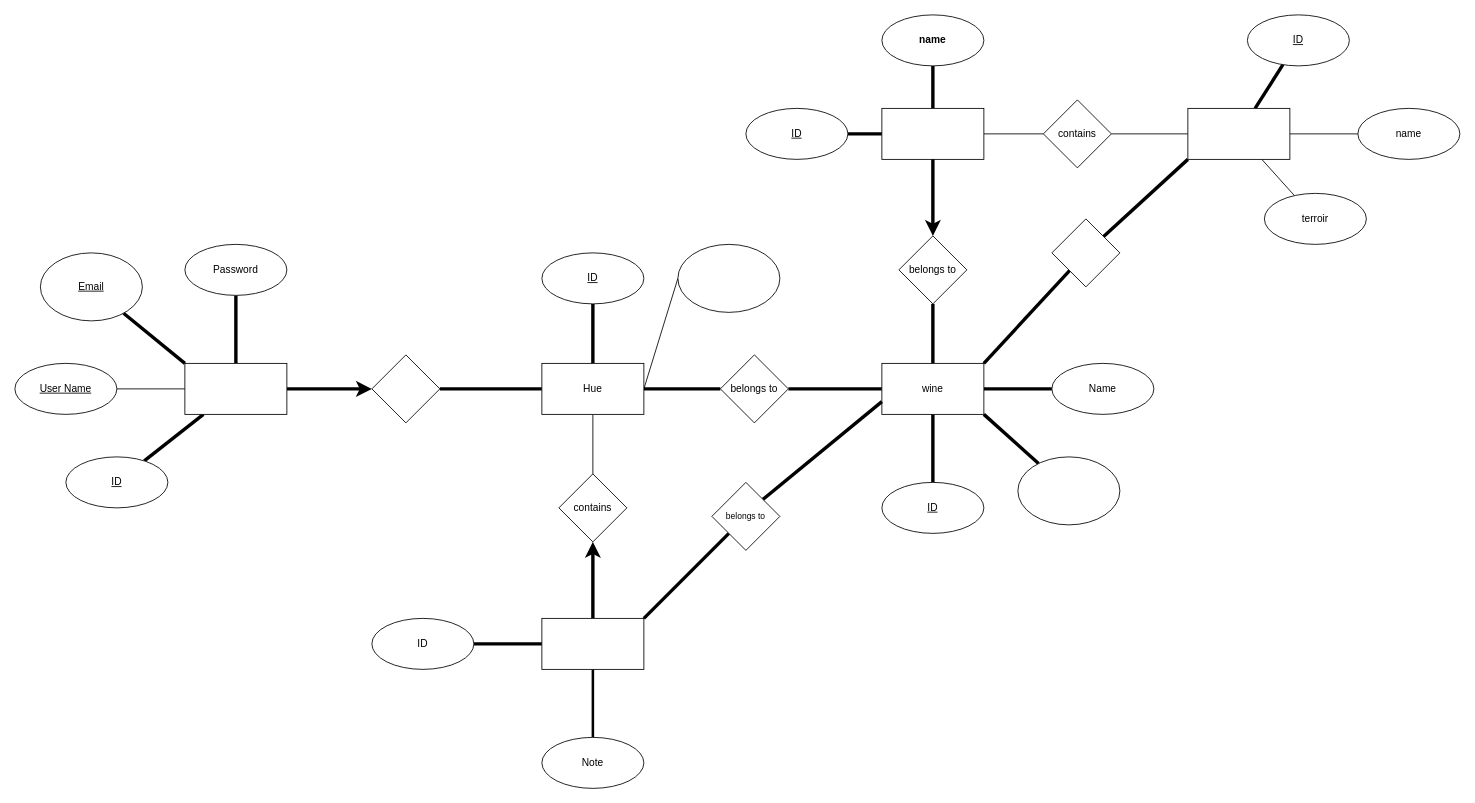
The diagram is 1475 pixels wide and 803 high, and some of its shapes have lost their labels. The shapes that lost their labels are listed below. From the top down, each one's box as (x1, y1, x2, y2) in pixels, then its label:
(881, 108, 984, 159): counttry
(1187, 108, 1290, 159): region
(1051, 218, 1120, 287): comes from
(677, 244, 780, 312): h_color
(184, 363, 287, 414): User
(371, 354, 440, 423): Selects
(1017, 456, 1120, 525): price
(541, 618, 644, 669): tasting note
